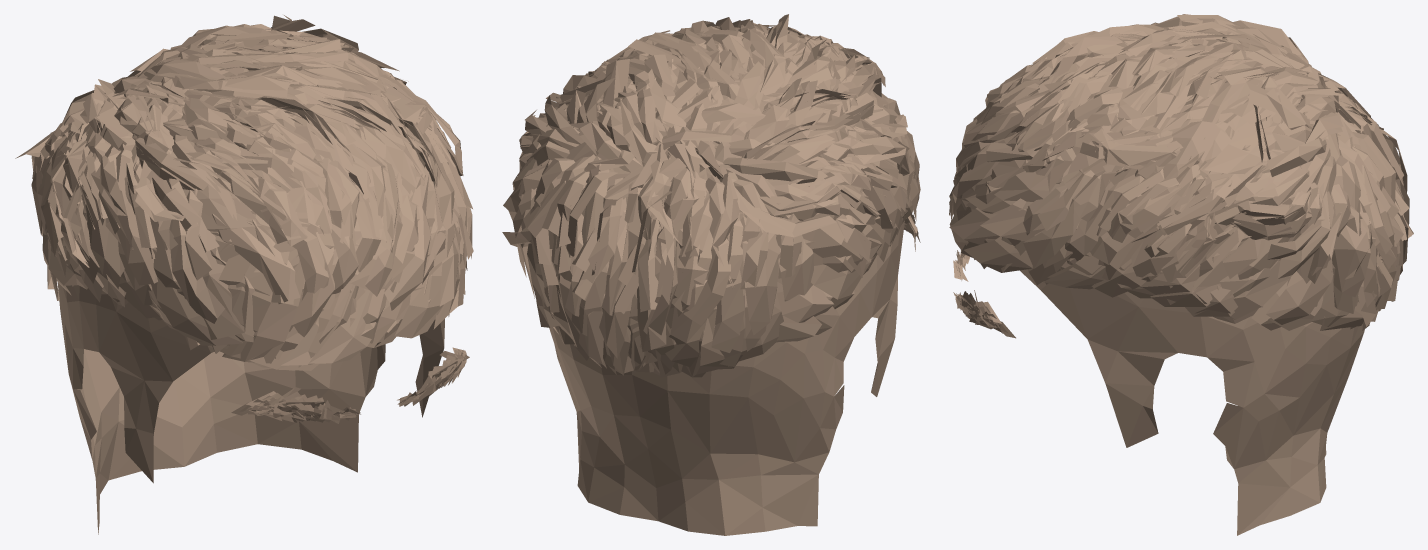
Rendered from male_hair_03_lod0.glb.
The picture shows the model from 3 angles, left to right: view 1: azimuth 30°, elevation 25°; view 2: azimuth 150°, elevation 25°; view 3: azimuth 270°, elevation 25°; orthographic projection. The views are drawn at different scales.
Parts seen in each view (by area): view 1: hair_03; view 2: hair_03; view 3: hair_03.
Boxes of the visible parts, <box> form: hair_03: <box>15,15,473,534</box>; hair_03: <box>502,14,920,535</box>; hair_03: <box>949,14,1413,535</box>.
Bounding box in the file's own units: 0.1589 × 0.1954 × 0.1901.
